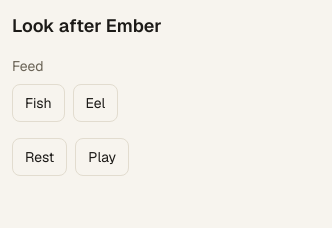
Test: CarePanel › shows a refusal in the dragon's words
The image size is (332, 228).
Click the button "Play" at coordinates (102, 157), box [75,138,129,176]
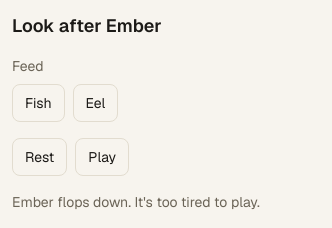
Expected: the text "Ember flops down. It's too tired to play." is shown, [12,193,260,211]
